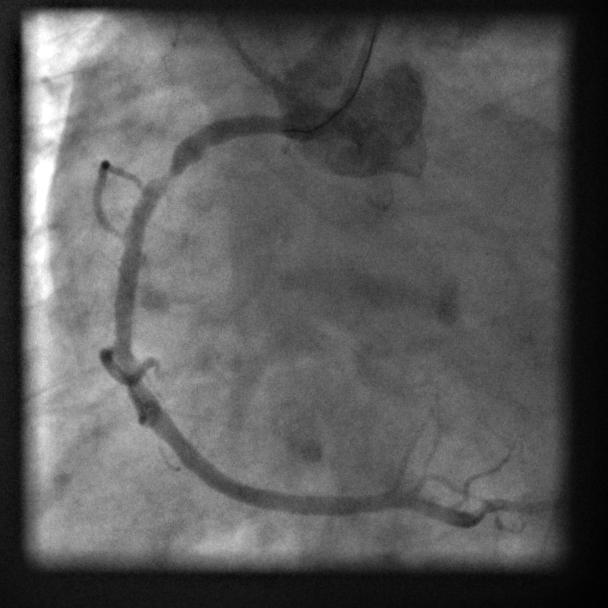Stenosis: (150, 145, 185, 201)
